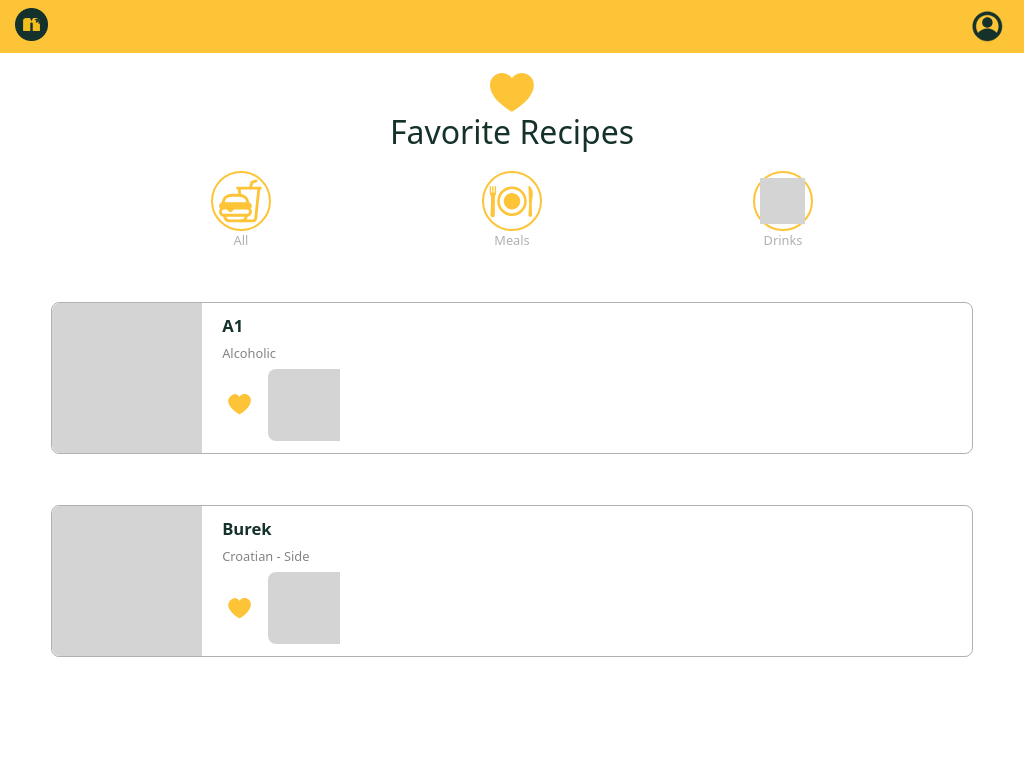
Scenario: Testa a tela pricipal › Verifica se ao clicar no coração a comida é desvaforitada
Click the button with test id "1-horizontal-favorite-btn". click: coordinates (240, 608)
box: [222, 596, 257, 620]
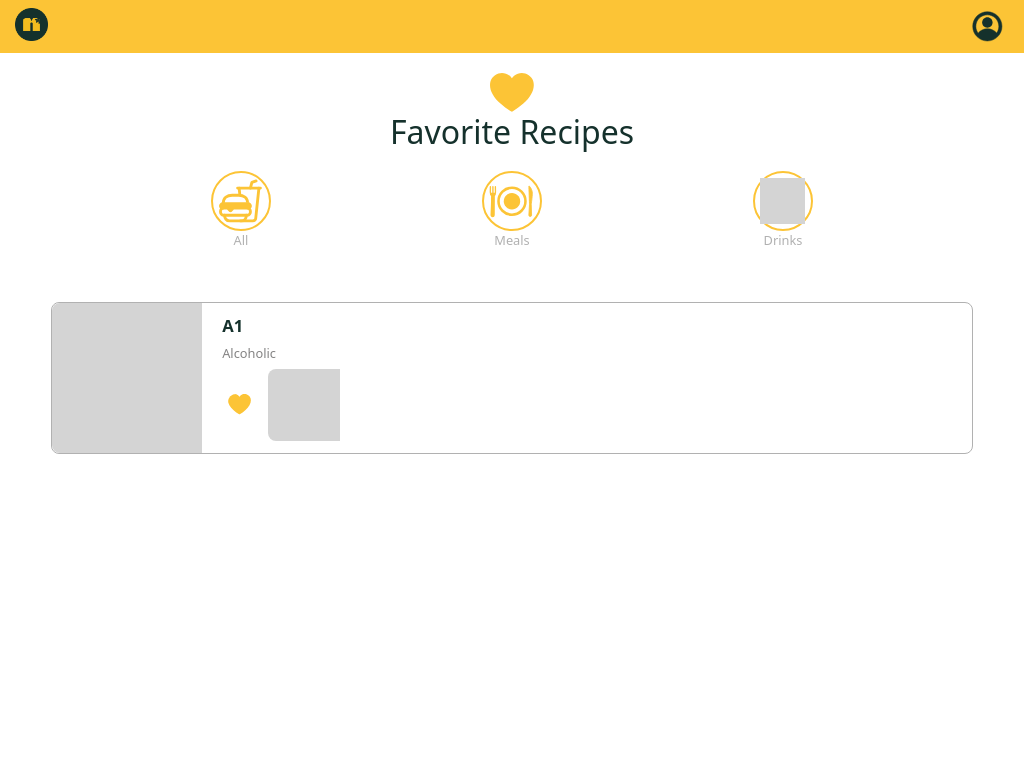
Check: the link "Burek" is gone
